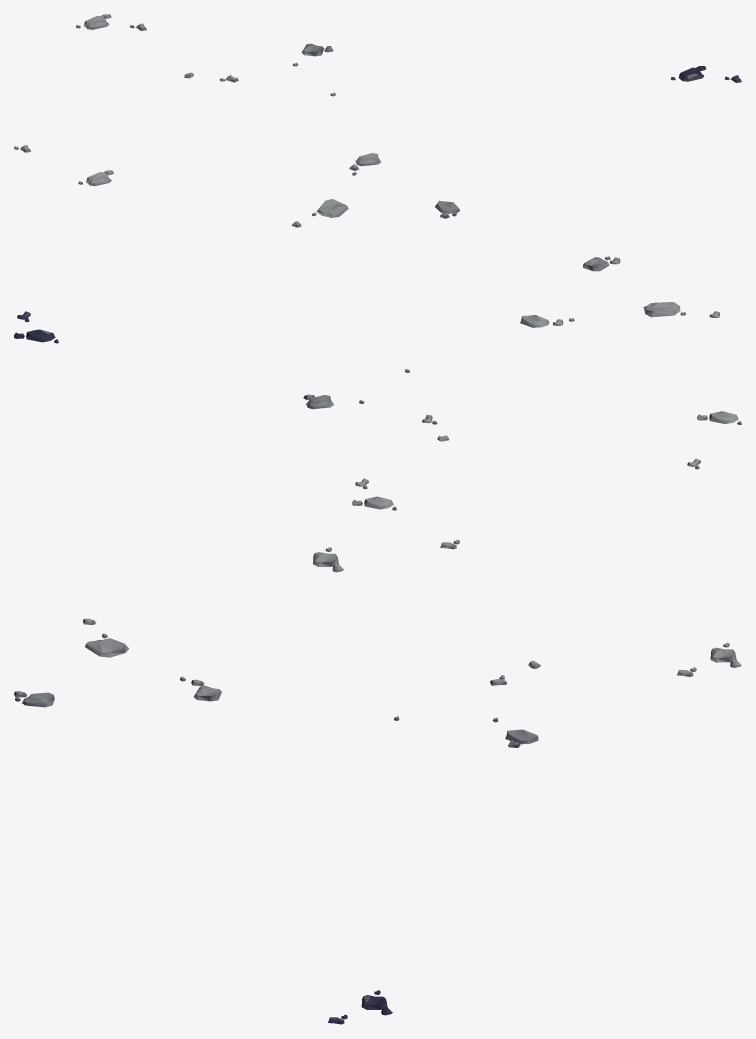
The model's file is Ground_04.FBX.
3 views of the same model, one above another, from view 1: azimuth 30°, elevation 25°; view 2: azimuth 150°, elevation 25°; view 3: azimuth 270°, elevation 25° (orthographic). The views are drawn at different scales.
Visible parts, largest first — view 1: Ground_04; view 2: Ground_04; view 3: Ground_04.
Boxes of the visible parts, x1,y1,x2,y2 form: Ground_04: (14, 14, 741, 227); Ground_04: (14, 256, 741, 510); Ground_04: (14, 539, 741, 1024).
Bounding box in the file's own units: 31.52 × 2.83 × 23.69.
